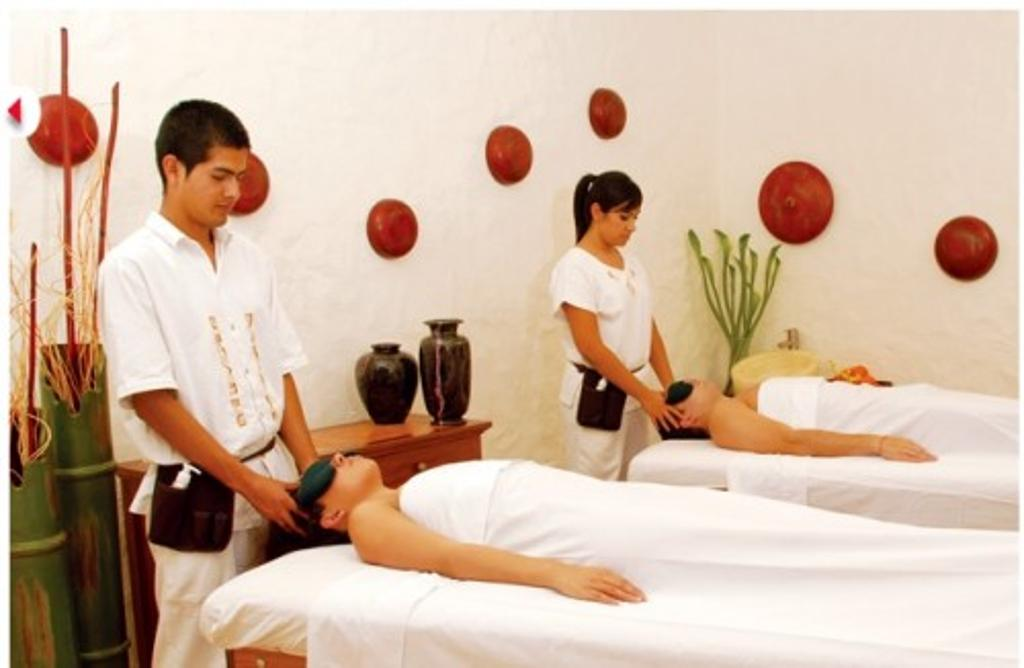face: (185, 139, 248, 226), (309, 453, 382, 505), (601, 199, 641, 246), (673, 376, 721, 410)
